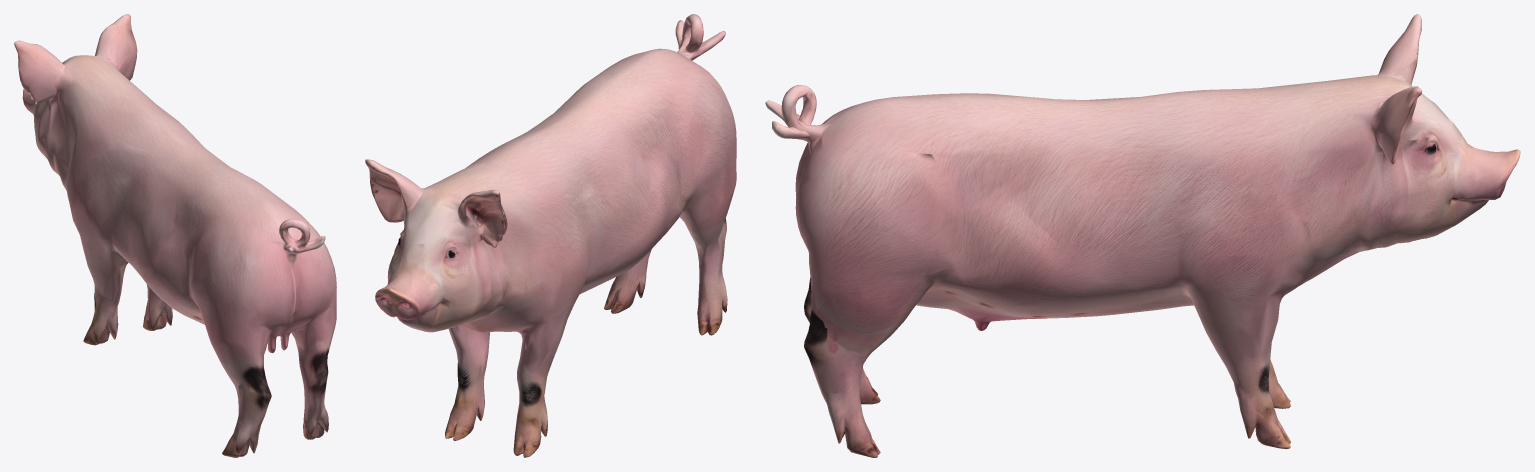
File: maiale_rosa.gltf
The picture shows the model from 3 angles, left to right: view 1: azimuth 30°, elevation 25°; view 2: azimuth 150°, elevation 25°; view 3: azimuth 270°, elevation 25°; orthographic projection. The views are drawn at different scales.
Parts seen in each view (by area): view 1: animal; view 2: animal; view 3: animal.
Boxes of the visible parts, x1=… form: animal: x1=14, y1=14, x2=336, y2=457; animal: x1=365, y1=14, x2=736, y2=457; animal: x1=765, y1=14, x2=1520, y2=457.
Bounding box in the file's own units: 0.3231 × 0.7152 × 1.3.
1 material, 1 textured.
